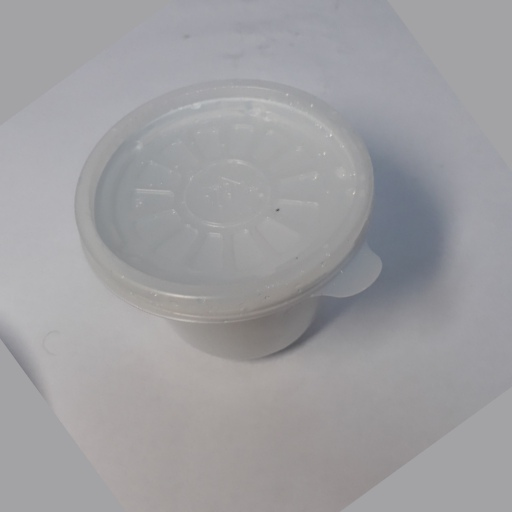Plastic_5: (69, 79, 391, 364)
